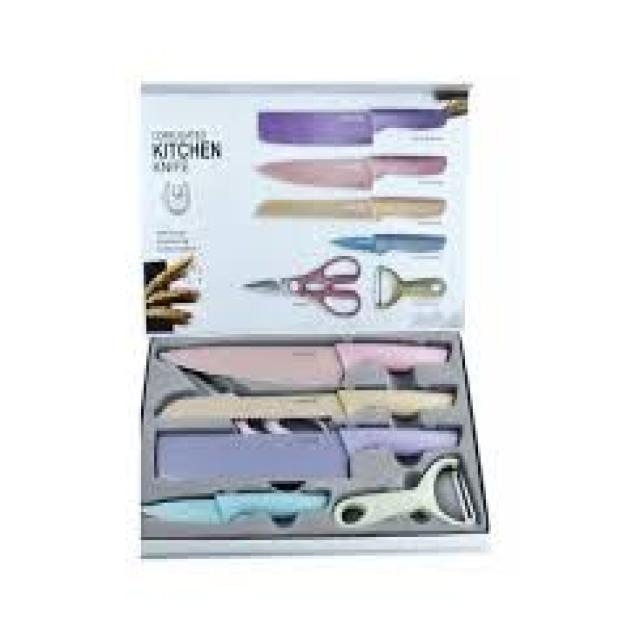Knife: (137, 322, 494, 534)
